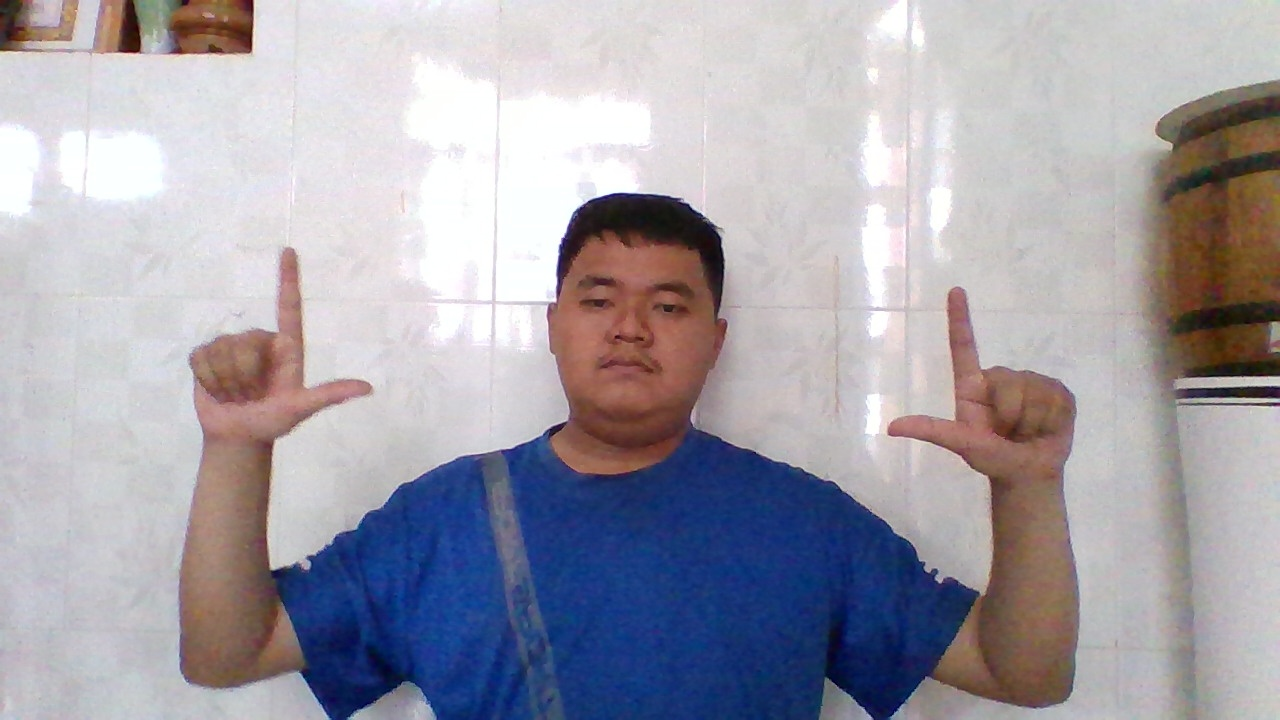L: (182, 237, 379, 457), (880, 276, 1079, 492)
